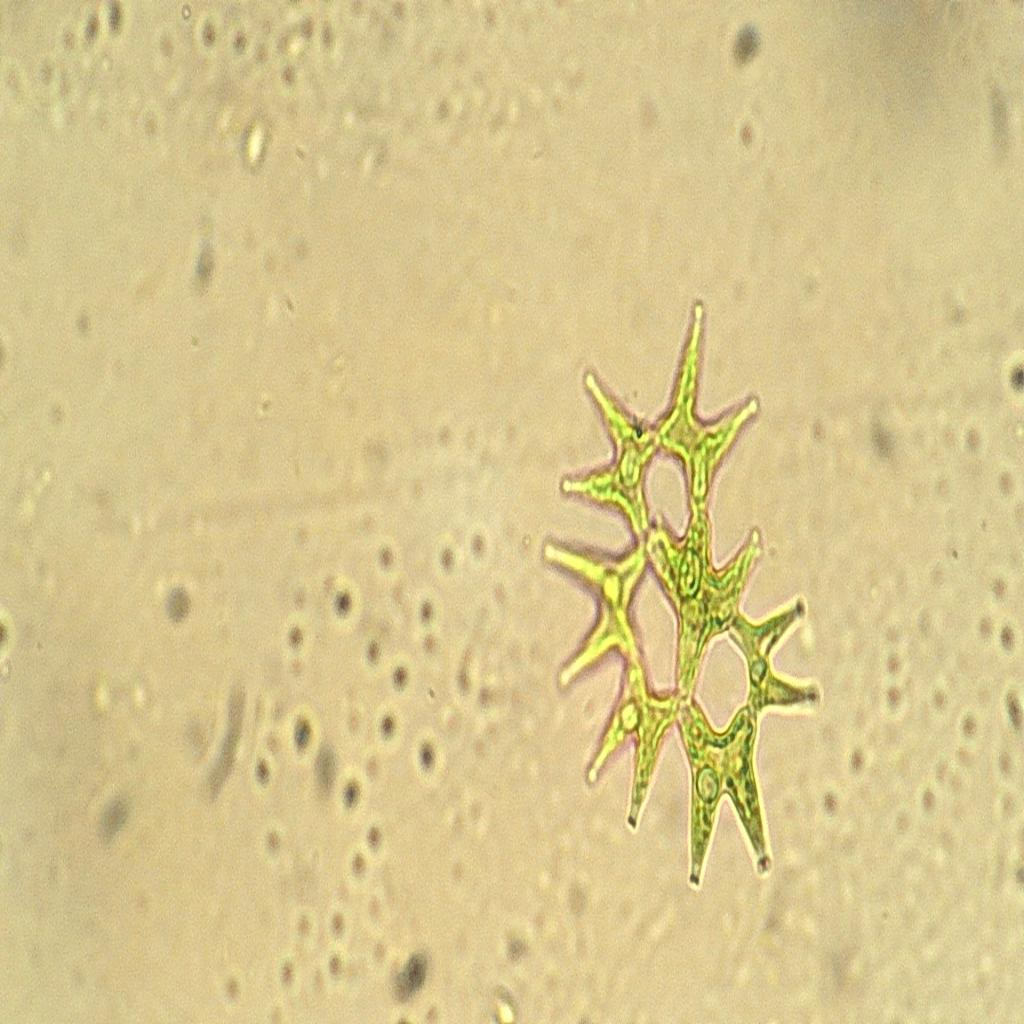Pediastrum_CFI: (534, 286, 827, 902)
